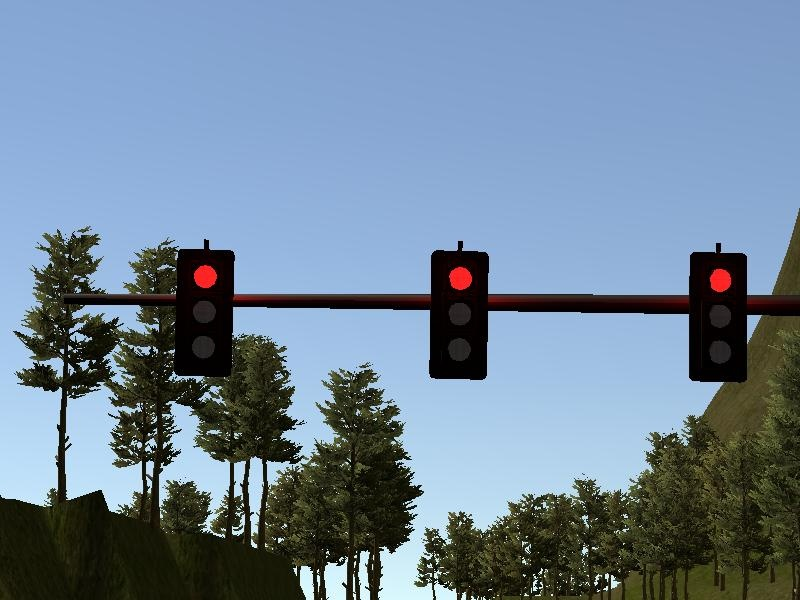Red: (426, 247, 491, 383), (686, 250, 750, 385), (173, 246, 237, 380)
